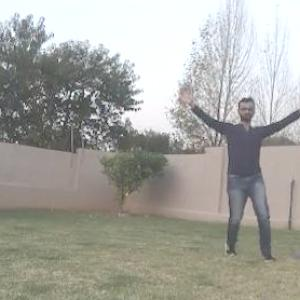takeoff: (166, 90, 299, 252)
